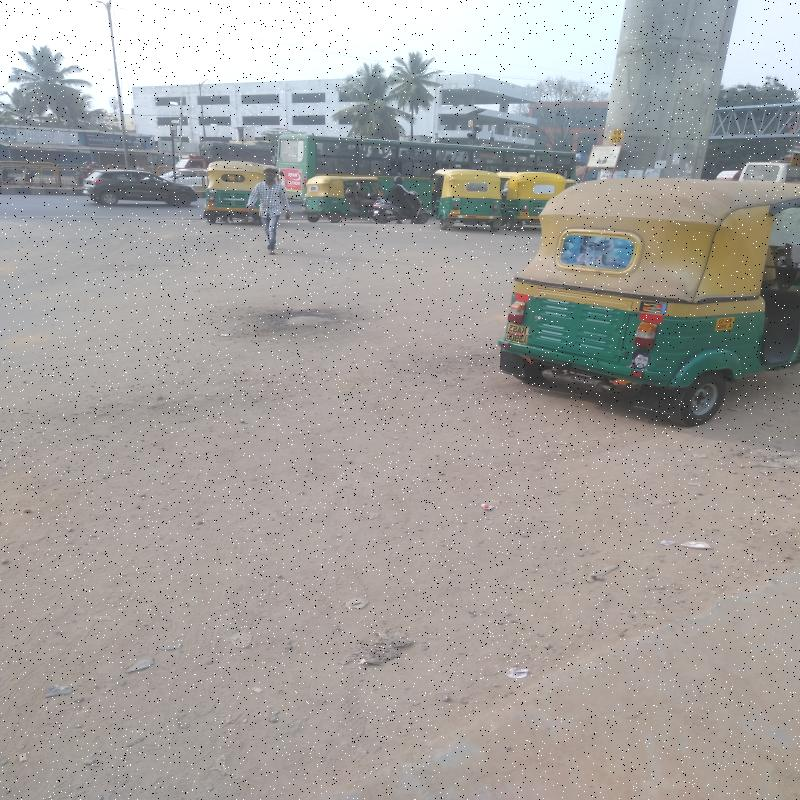auto: (507, 185, 788, 400)
